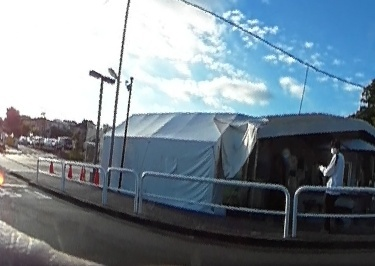person: (320, 138, 345, 232)
